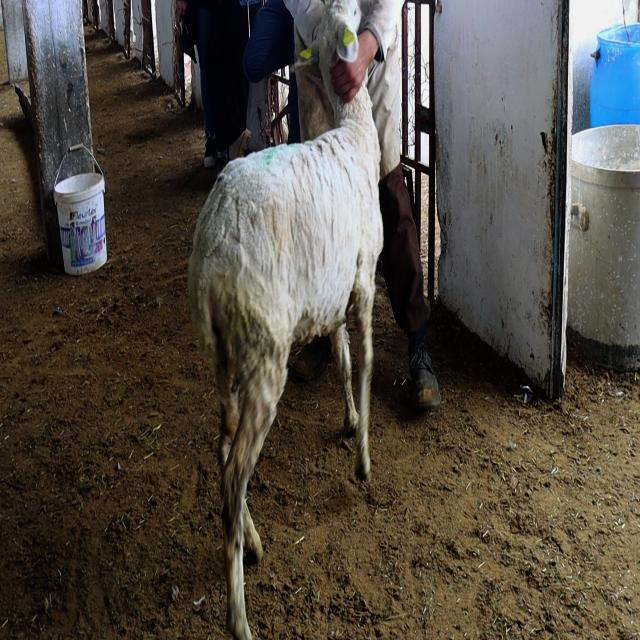Score_5: (188, 0, 383, 639)
